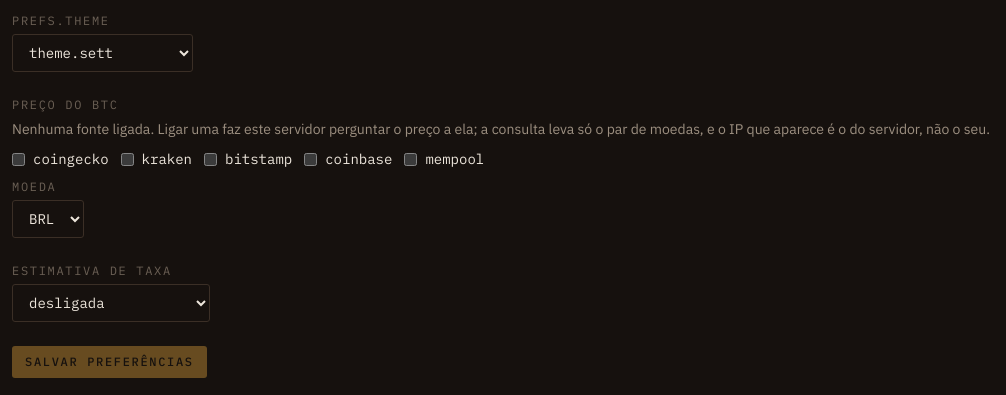
Test: Preferencias › mexer num campo não salva sozinho: quem salva é o botão
This screenshot has width=1006, height=395.
Click the checkbox labelled "kraken".
click(127, 159)  # box [121, 153, 134, 166]
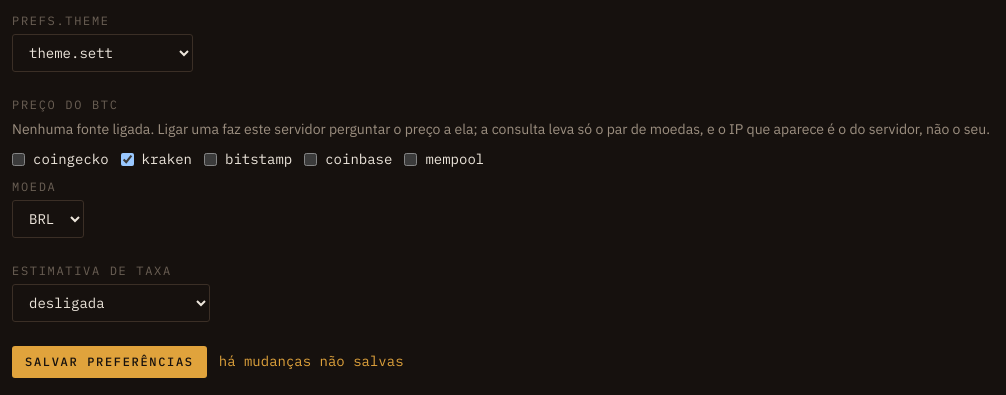
Now the text "há mudanças não salvas" is shown, box [219, 351, 404, 372]
